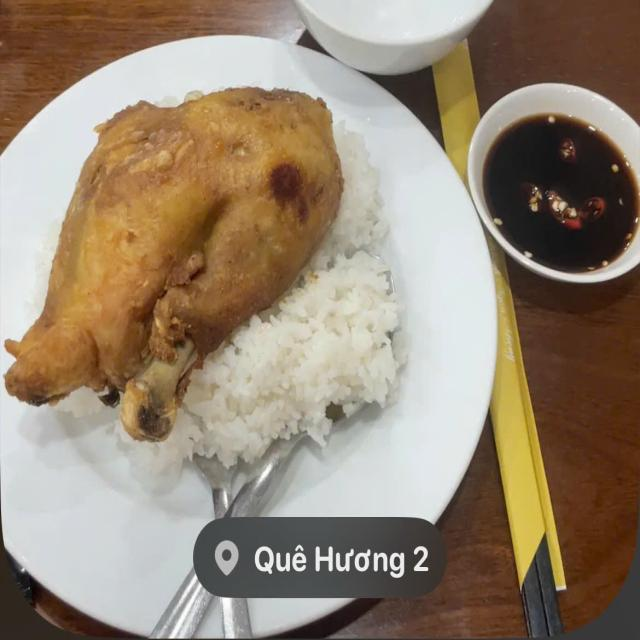ga_chien: (0, 122, 297, 336)
